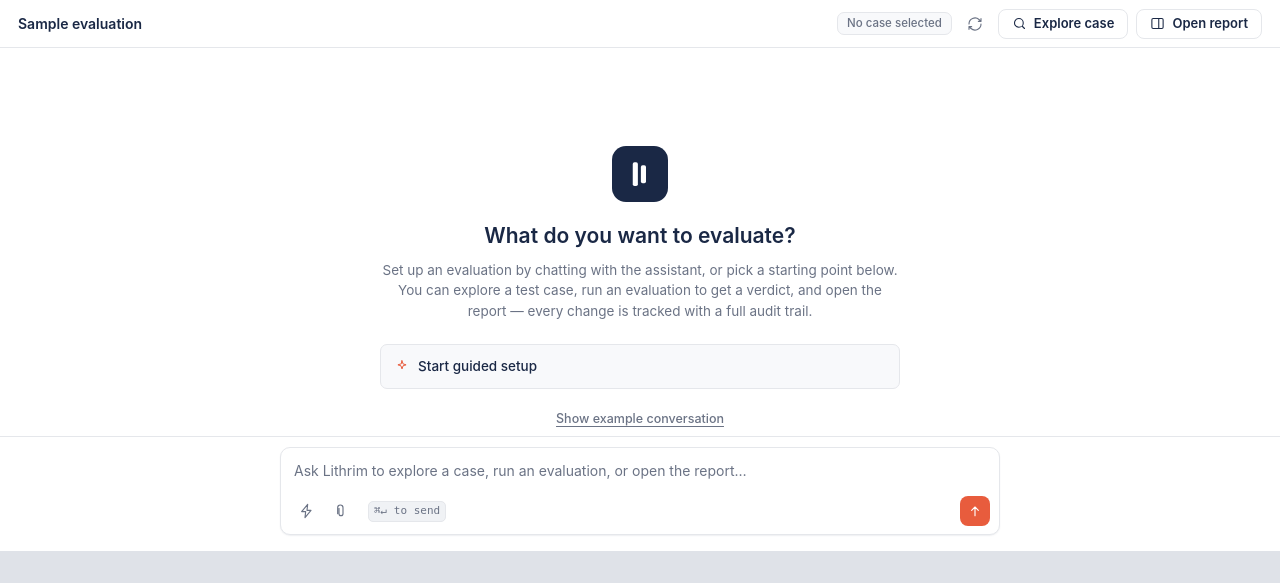
CenterPane / Shell — UX-1: clean default + cadence + New-eval (S-BS-89) › live turns use a neutral identity (You), never the scripted Jordan
Replace the text in the text box with placeholder "Ask Lithrim" with "hello". click: (640, 467)
box: x1=281 y1=448 x2=999 y2=485
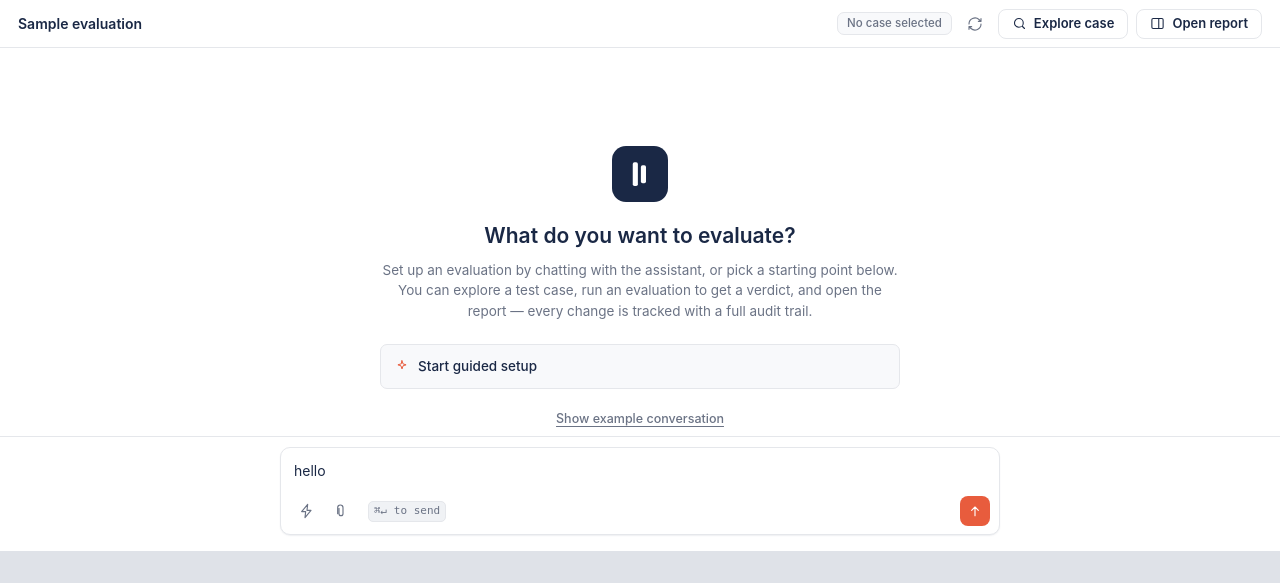
Click the button with test id "chat-send". click: click(975, 511)
box: x1=960 y1=496 x2=990 y2=526
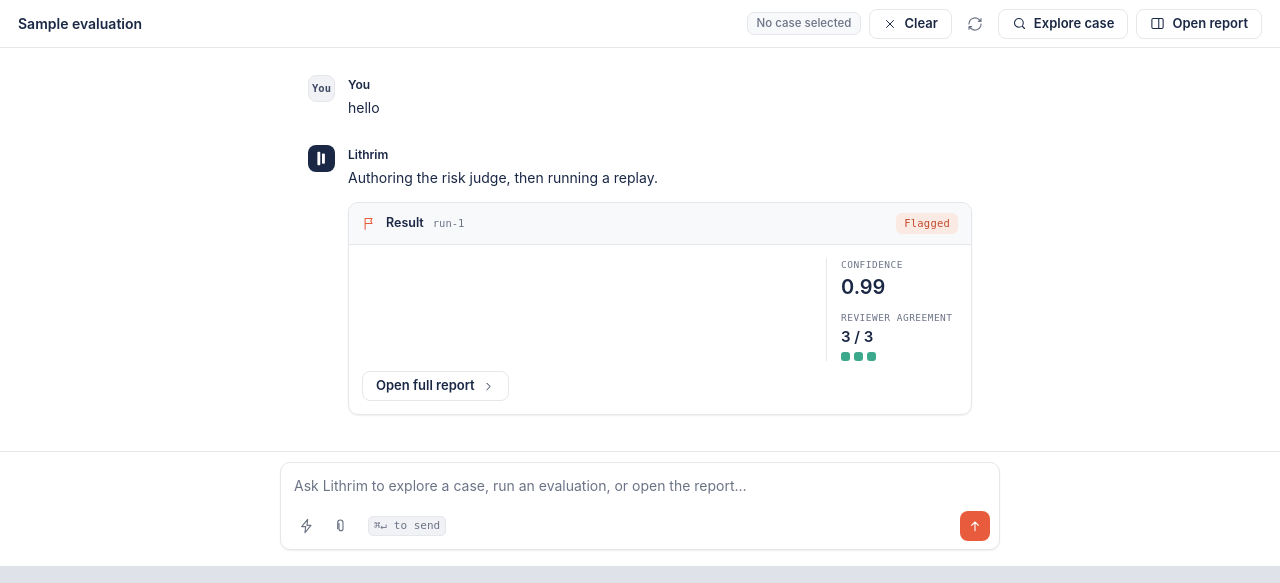
Check: the 1st text "You" is shown, box x1=308 y1=75 x2=335 y2=102
Check: the text "Authoring the risk judge, then running a replay." is shown, box x1=348 y1=169 x2=658 y2=186
